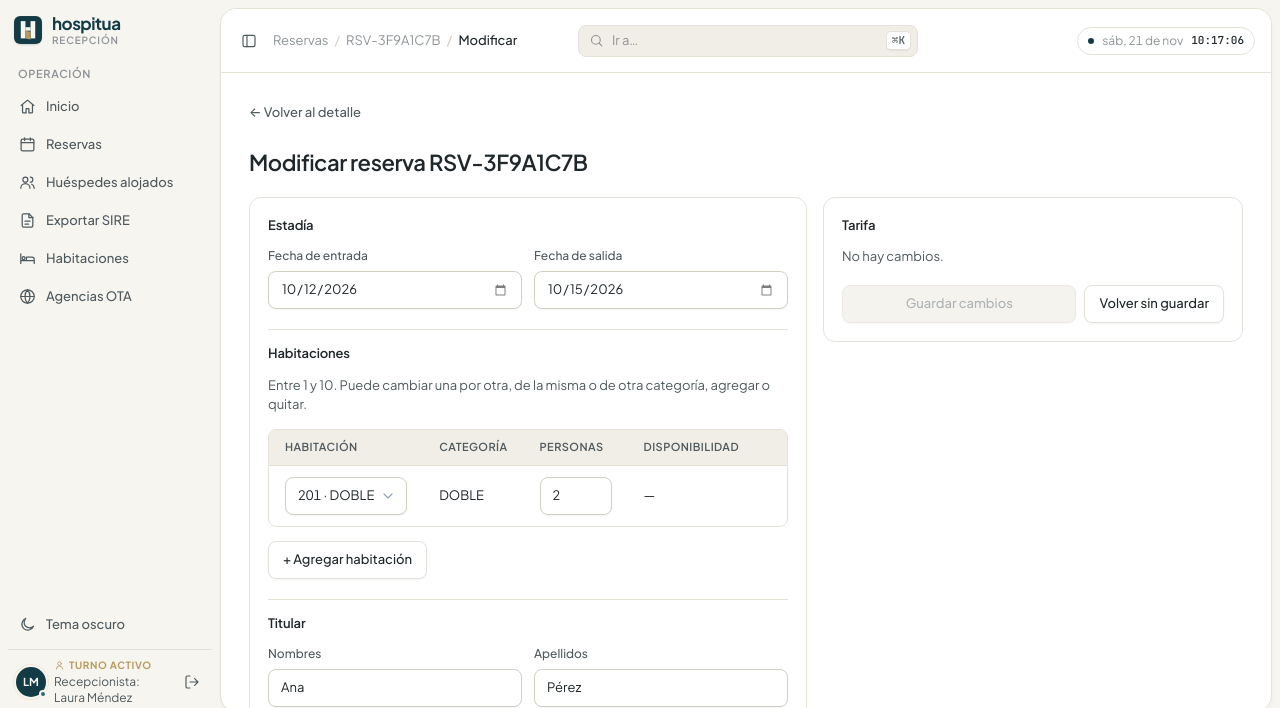
Test: Pantalla "Modificar" (T014 de update-reservation) › una fila sin habitación no pide la vista previa; la habitación de otra fila no se puede elegir
Click the button "+ Agregar habitación": (348, 560) [268,540,427,578]
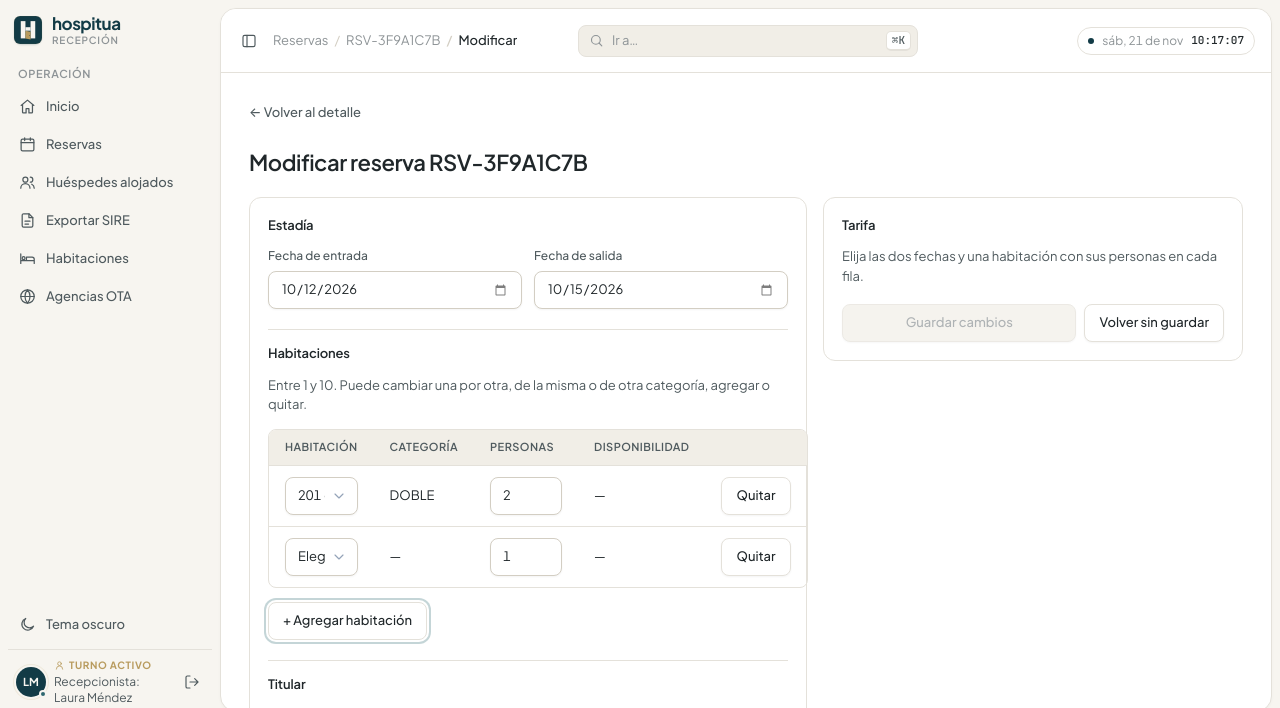
Expected: the text "Elija las dos fechas y una habitación con sus personas en cada fila." is shown, [842,247,1224,286]
